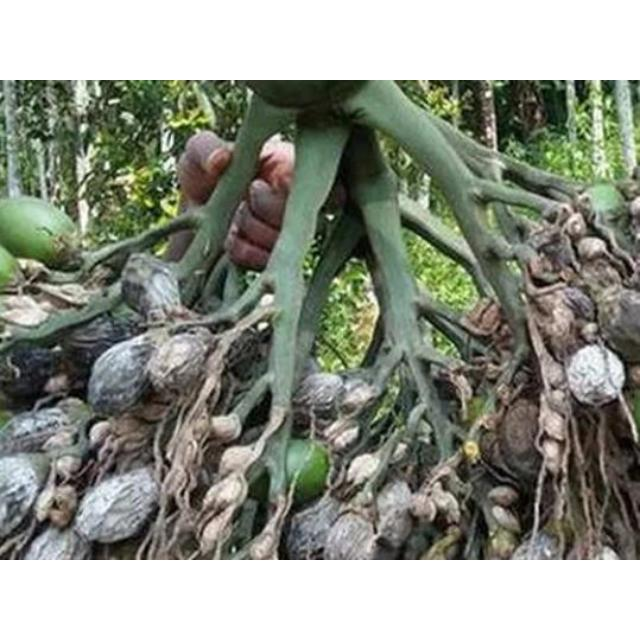damaged: (75, 468, 159, 544), (63, 314, 135, 376), (148, 330, 210, 398), (120, 254, 182, 320), (2, 344, 64, 402), (287, 500, 343, 560), (375, 479, 419, 549), (293, 372, 347, 426), (322, 510, 380, 560), (224, 326, 270, 382), (531, 232, 575, 276), (338, 377, 378, 417), (200, 512, 234, 552), (344, 453, 382, 487), (484, 526, 522, 560), (218, 446, 260, 476), (162, 463, 194, 499), (213, 476, 247, 508), (185, 413, 213, 449), (413, 437, 442, 471), (541, 354, 567, 390), (210, 413, 242, 441), (488, 506, 522, 532), (540, 406, 566, 440), (408, 494, 437, 522), (331, 425, 362, 451), (432, 487, 458, 518), (17, 258, 47, 284), (54, 454, 82, 481), (486, 485, 520, 507), (88, 420, 114, 448), (540, 437, 562, 463), (352, 489, 378, 511), (580, 321, 600, 343)
